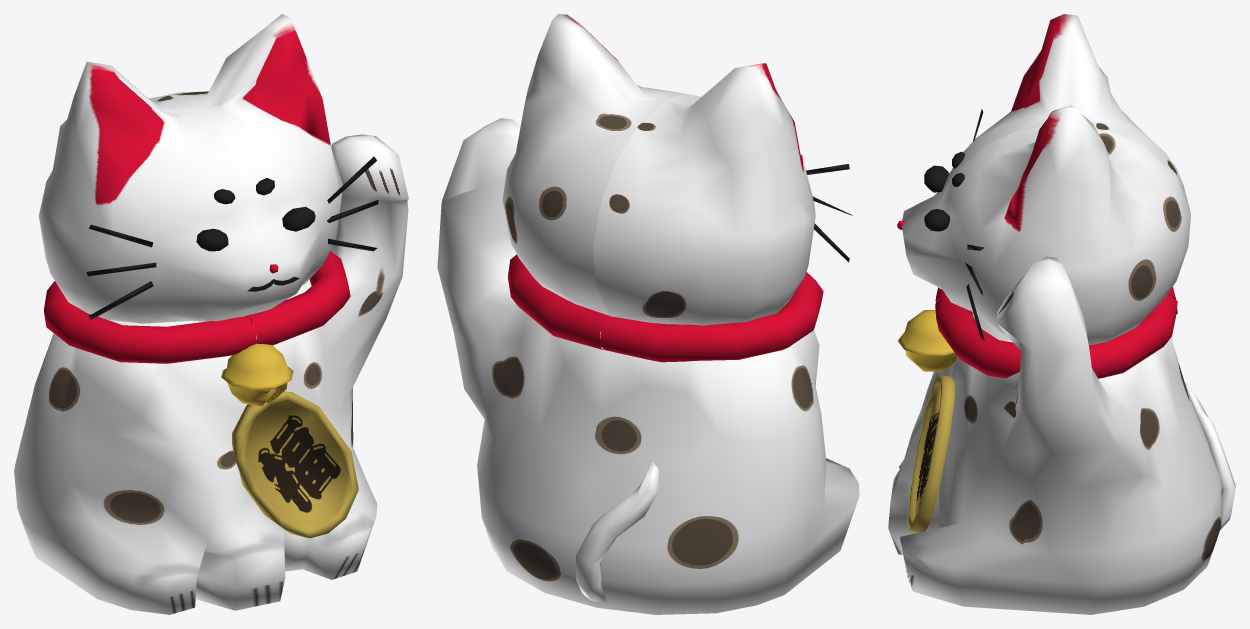
The model's file is manekineko.obj.
3 views of the same model, side by side, from view 1: azimuth 30°, elevation 25°; view 2: azimuth 150°, elevation 25°; view 3: azimuth 270°, elevation 25° (orthographic). The views are drawn at different scales.
Visible parts, largest first — view 1: 円柱.001; view 2: 円柱.001; view 3: 円柱.001.
Part boxes in pixels (left/top/right/bottom): 円柱.001: left=14, top=14, right=408, bottom=614; 円柱.001: left=437, top=14, right=859, bottom=614; 円柱.001: left=888, top=14, right=1235, bottom=614.
Bounding box in the file's own units: 3.18 × 4.27 × 2.74.
6 materials, 6 textured.
